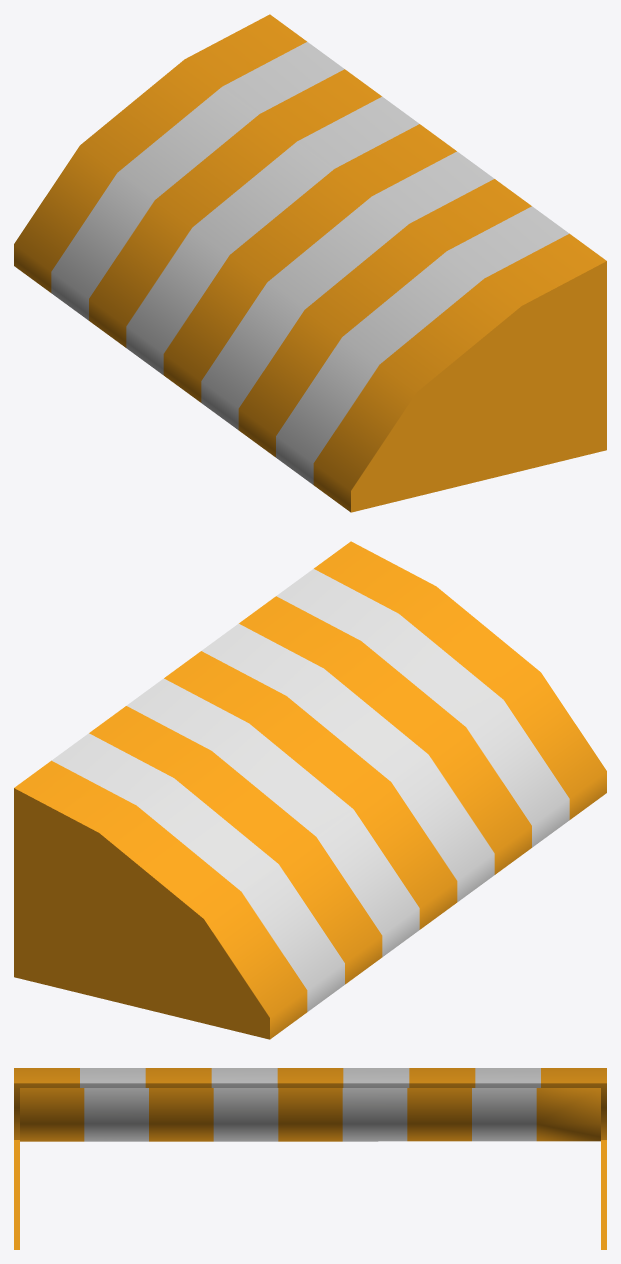
File: Awning_1_A.glb
3 renders of one model, top to bottom at view 1: azimuth 30°, elevation 25°; view 2: azimuth 150°, elevation 25°; view 3: azimuth 270°, elevation 25°, orthographic. The views are drawn at different scales.
Parts seen in each view (by area): view 1: Awning_1_A; view 2: Awning_1_A; view 3: Awning_1_A.
Part boxes in pixels (bbox=[...]): Awning_1_A: bbox=[14, 14, 606, 512]; Awning_1_A: bbox=[14, 541, 606, 1039]; Awning_1_A: bbox=[14, 1068, 606, 1249].
Size of the model in its own units: 1.23 by 0.8657 by 2.8.
Materials: 2 (2 with a texture image).
